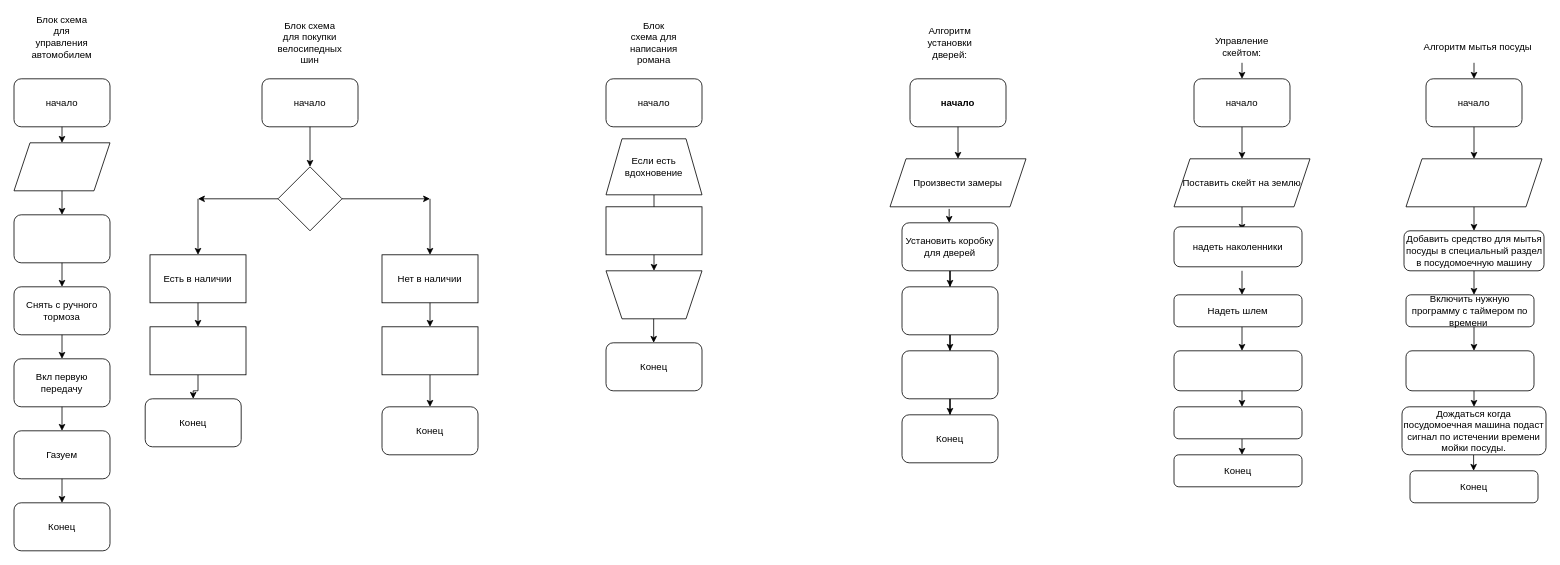
Some shapes in this 1560 by 565 pixel diagram are drawn without their labels. The shapes that lost their labels are listed below. From the top down, each one's box as (x1, y1, x2, y2) in pixels, then its label:
(13, 142, 110, 191): Пристегнуться
(1405, 158, 1542, 207): Загрузить посуду в посудомойку
(277, 166, 342, 231): Пришел в магазин
(13, 214, 110, 263): Завести двигатель
(605, 206, 702, 255): Пишу роман
(605, 270, 702, 319): Если нет вдохновения
(901, 286, 998, 335): Установить непосредственно саму дверь
(149, 326, 246, 375): Купил
(381, 326, 478, 375): Не купил
(1173, 350, 1302, 391): Правой ногой встать на скейт
(1405, 350, 1534, 391): Закрыть посудомоечную машину
(901, 350, 998, 399): Проверяем исправность установленной двери
(1173, 406, 1302, 439): Левой ногой отталкиваемся от асфальта
